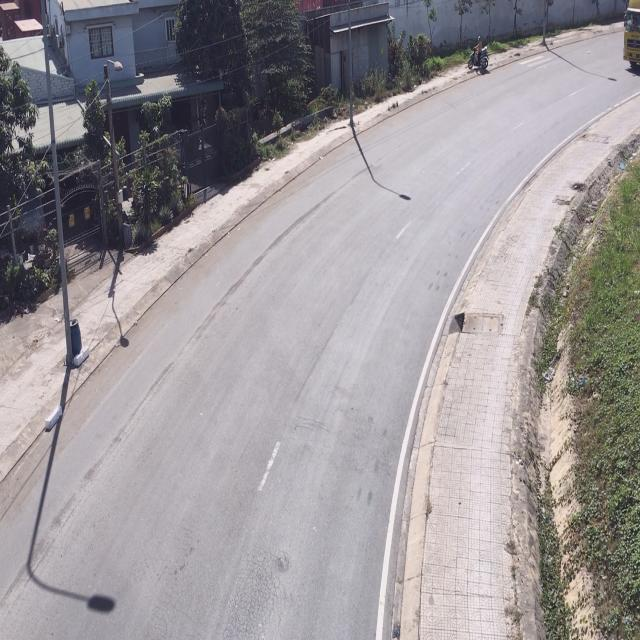motorbike: (466, 35, 490, 72)
truck: (624, 0, 640, 73)
